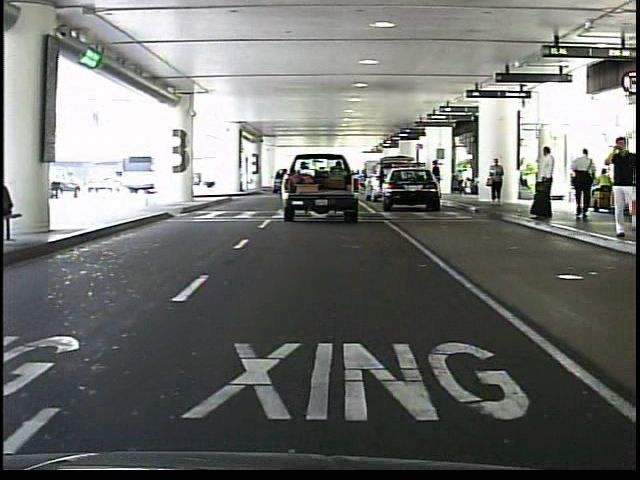person: (602, 137, 640, 247), (568, 145, 598, 222), (531, 143, 559, 224), (485, 155, 509, 211), (431, 158, 446, 202)
